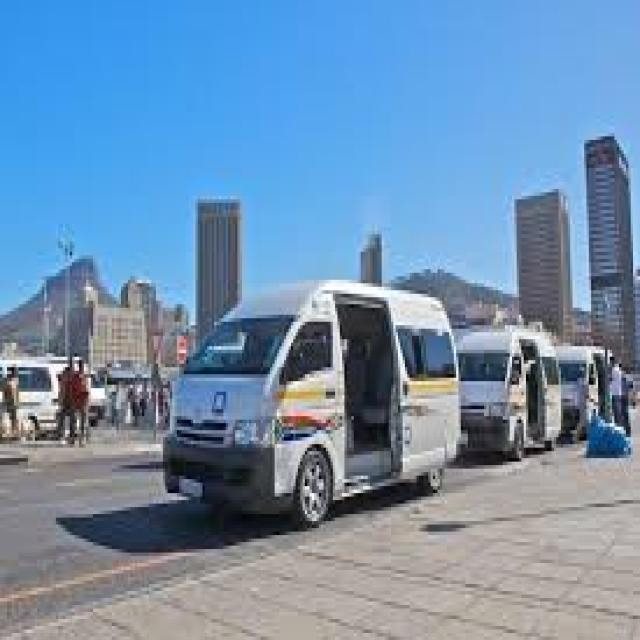MiniBus taxi: (158, 279, 466, 532)
